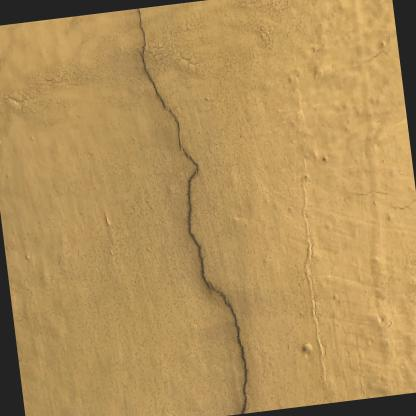crack: (166, 103, 210, 295), (208, 280, 246, 414), (136, 8, 165, 109)
